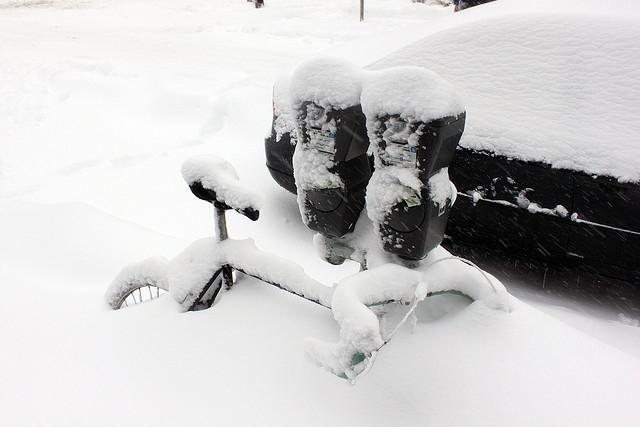bicycle: (102, 157, 426, 364)
car: (265, 86, 640, 304)
